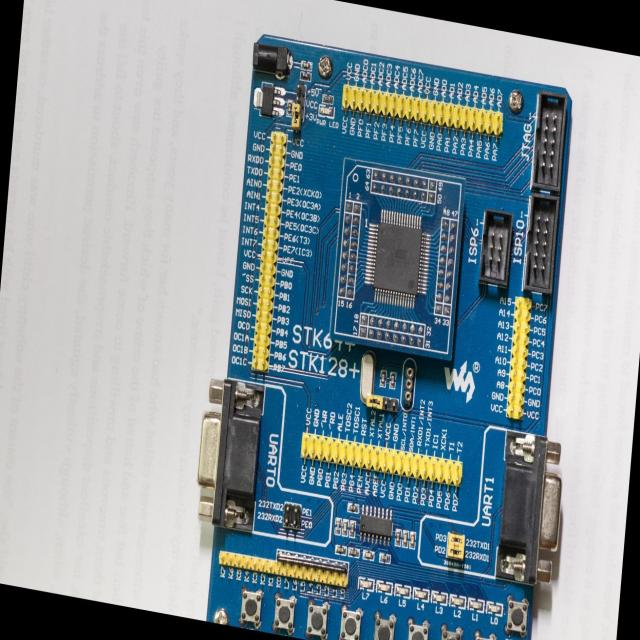Button: (238, 585, 264, 630), (270, 592, 296, 637), (504, 595, 530, 639), (304, 598, 330, 640), (337, 604, 364, 640), (372, 611, 398, 639), (404, 617, 431, 640), (436, 622, 464, 640), (471, 629, 498, 639)
Capacitor Jumper: (408, 531, 416, 550), (348, 520, 356, 539), (348, 546, 360, 558), (335, 544, 347, 556), (395, 528, 402, 548), (402, 530, 409, 549), (362, 550, 374, 561), (286, 99, 293, 117), (301, 60, 312, 71), (347, 503, 359, 513), (299, 72, 311, 82), (342, 519, 348, 538)
Clock: (358, 350, 378, 406)
Connector: (494, 428, 568, 589), (194, 374, 266, 534), (342, 82, 504, 138), (300, 432, 463, 487), (252, 131, 287, 374), (218, 550, 349, 588), (523, 193, 560, 296), (532, 90, 568, 193), (505, 295, 533, 421), (479, 208, 513, 288), (252, 41, 292, 78), (399, 356, 417, 413), (282, 503, 302, 530), (382, 395, 399, 413), (294, 94, 305, 108), (296, 82, 306, 96)
IC: (363, 208, 432, 310), (358, 504, 393, 547), (252, 80, 287, 119)
Jumper: (290, 104, 303, 132), (365, 393, 383, 411), (447, 532, 466, 548), (446, 546, 464, 562)
Led: (412, 586, 430, 603), (486, 600, 504, 617), (431, 590, 448, 608), (468, 597, 485, 614), (376, 580, 393, 596), (449, 594, 466, 610), (394, 584, 412, 598), (358, 578, 374, 591), (318, 105, 334, 118)
Pins: (370, 167, 438, 205), (358, 312, 426, 350), (434, 217, 459, 318), (338, 200, 362, 300)
Resistor: (334, 517, 342, 536), (379, 553, 391, 564), (322, 94, 334, 105)
Unknown Unlabeled: (379, 370, 387, 388), (389, 371, 396, 390)
